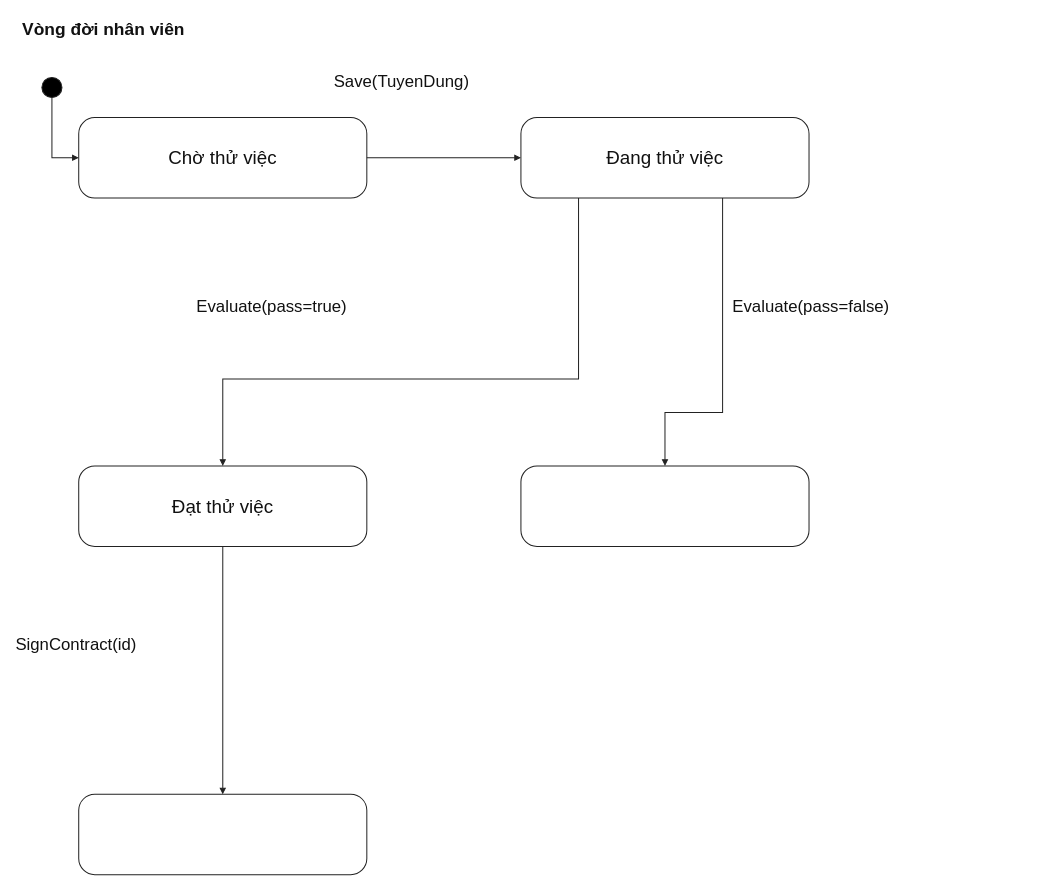
Image size: 1061x886. Some labels were removed from this diagram. Each missing label, with the centre of its shape:
Chính thức: [222,834]
Không đạt: [664,506]
